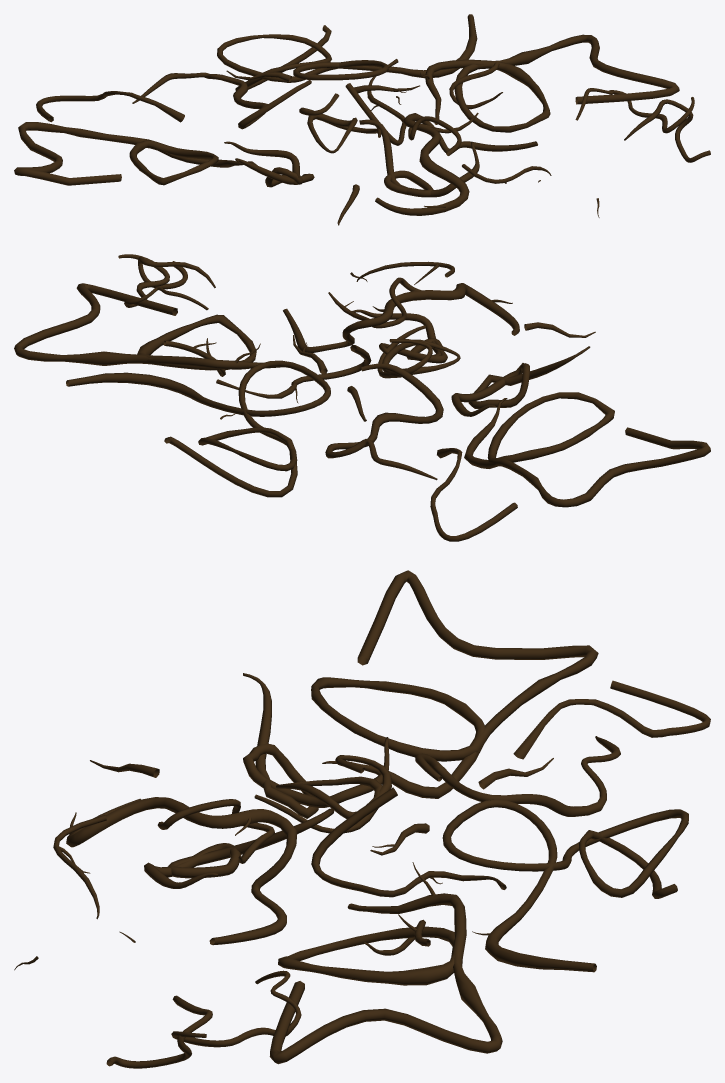
File: F_Roots_01.fbx
The picture shows the model from 3 angles, top to bottom: view 1: azimuth 30°, elevation 25°; view 2: azimuth 150°, elevation 25°; view 3: azimuth 270°, elevation 25°; orthographic projection. The views are drawn at different scales.
Parts seen in each view (by area): view 1: BézierCurve.005, BézierCurve.010, BézierCurve.006, BézierCurve.001, BézierCurve.008, BézierCurve.011, BézierCurve.009, BézierCurve.004, BézierCurve.014, BézierCurve.003, BézierCurve.013, BézierCurve.012 (+3 smaller); view 2: BézierCurve.006, BézierCurve.010, BézierCurve.005, BézierCurve.001, BézierCurve.011, BézierCurve.009, BézierCurve.004, BézierCurve.014, BézierCurve.008, BézierCurve.003, BézierCurve.012, BézierCurve.013 (+2 smaller); view 3: BézierCurve.005, BézierCurve.010, BézierCurve.006, BézierCurve.001, BézierCurve.009, BézierCurve.008, BézierCurve.011, BézierCurve.014, BézierCurve.004, BézierCurve.003, BézierCurve.012, BézierCurve.013 (+2 smaller).
Part boxes in pixels (x1,y1,x2,y2): BézierCurve.005: [425, 34, 679, 132]; BézierCurve.010: [14, 122, 257, 185]; BézierCurve.006: [217, 14, 477, 90]; BézierCurve.001: [375, 113, 537, 215]; BézierCurve.008: [359, 119, 479, 197]; BézierCurve.011: [132, 72, 311, 129]; BézierCurve.009: [224, 141, 314, 187]; BézierCurve.004: [299, 93, 381, 153]; BézierCurve.014: [36, 91, 184, 122]; BézierCurve.003: [345, 59, 406, 145]; BézierCurve.013: [624, 99, 710, 162]; BézierCurve.012: [575, 88, 694, 133]; BézierCurve.006: [66, 360, 330, 497]; BézierCurve.010: [464, 392, 710, 507]; BézierCurve.005: [14, 283, 283, 370]; BézierCurve.001: [283, 283, 519, 352]; BézierCurve.011: [325, 363, 443, 480]; BézierCurve.009: [451, 346, 590, 416]; BézierCurve.004: [377, 325, 460, 378]; BézierCurve.014: [430, 448, 517, 541]; BézierCurve.008: [352, 309, 447, 363]; BézierCurve.003: [216, 344, 371, 398]; BézierCurve.012: [118, 254, 208, 310]; BézierCurve.013: [138, 256, 215, 289]; BézierCurve.005: [269, 893, 502, 1064]; BézierCurve.010: [311, 570, 598, 798]; BézierCurve.006: [442, 799, 688, 972]; BézierCurve.001: [66, 797, 297, 945]; BézierCurve.009: [243, 673, 389, 818]; BézierCurve.008: [144, 808, 334, 888]; BézierCurve.011: [415, 736, 620, 816]; BézierCurve.014: [513, 680, 710, 759]; BézierCurve.004: [254, 755, 391, 833]; BézierCurve.003: [311, 787, 506, 897]; BézierCurve.012: [171, 970, 301, 1047]; BézierCurve.013: [106, 995, 212, 1068].
Size of the model in its own units: 23214 by 2704 by 15652.
